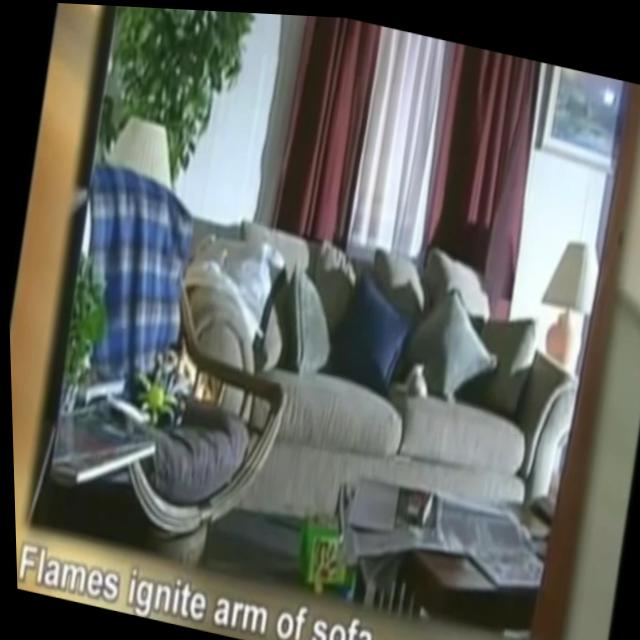fire: (167, 330, 212, 399)
